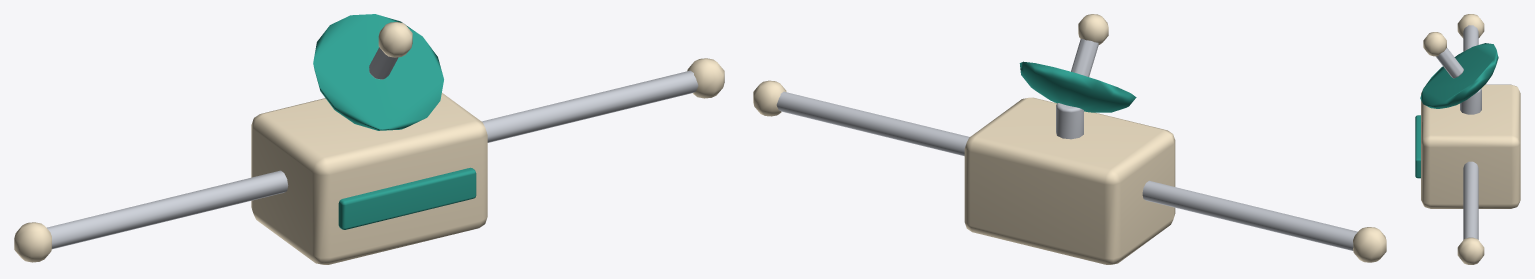
File: Part_RadarSounder.fbx
3 views of the same model, side by side, from view 1: azimuth 30°, elevation 25°; view 2: azimuth 150°, elevation 25°; view 3: azimuth 270°, elevation 25° (orthographic). The views are drawn at different scales.
Visible parts, largest first — view 1: Part_RadarSounder.Body, Part_RadarSounder.Antenna, Part_RadarSounder.Dish, Part_RadarSounder.Stripe; view 2: Part_RadarSounder.Body, Part_RadarSounder.Antenna, Part_RadarSounder.Dish; view 3: Part_RadarSounder.Body, Part_RadarSounder.Dish, Part_RadarSounder.Antenna, Part_RadarSounder.Stripe.
Boxes of the visible parts, x1,y1,x2,y2 form: Part_RadarSounder.Body: [251, 93, 487, 264]; Part_RadarSounder.Antenna: [14, 58, 724, 262]; Part_RadarSounder.Dish: [313, 14, 443, 130]; Part_RadarSounder.Stripe: [338, 167, 476, 229]; Part_RadarSounder.Body: [964, 97, 1175, 264]; Part_RadarSounder.Antenna: [753, 80, 1386, 262]; Part_RadarSounder.Dish: [1019, 14, 1136, 139]; Part_RadarSounder.Body: [1421, 84, 1520, 208]; Part_RadarSounder.Dish: [1420, 32, 1498, 114]; Part_RadarSounder.Antenna: [1457, 14, 1484, 264]; Part_RadarSounder.Stripe: [1415, 115, 1420, 178].
Bounding box in the file's own units: 1.78 × 0.5338 × 0.339.
1 material, 1 textured.
